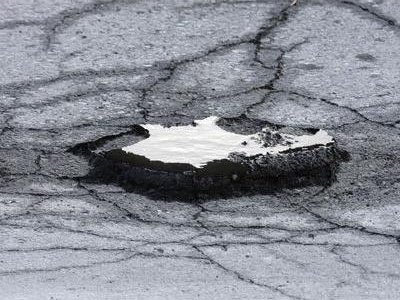pothole: (63, 109, 352, 211)
